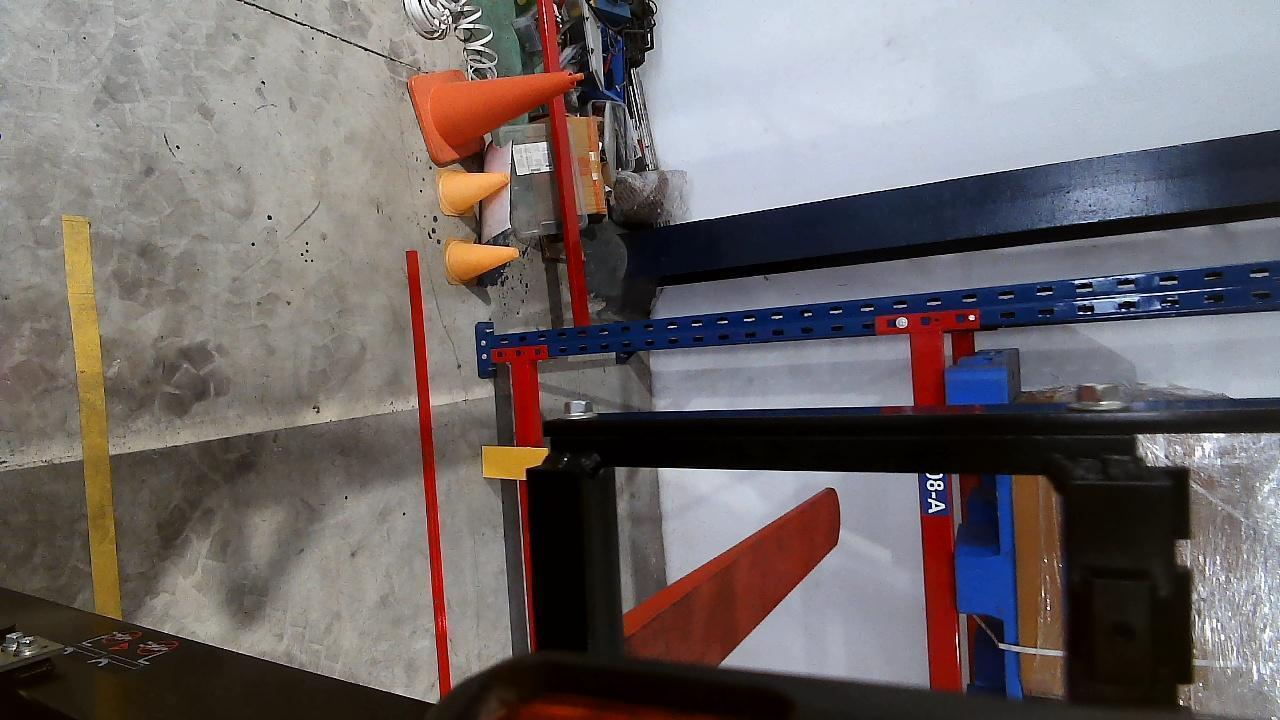red_line: (407, 251, 451, 679)
yellow_line: (60, 222, 123, 620)
